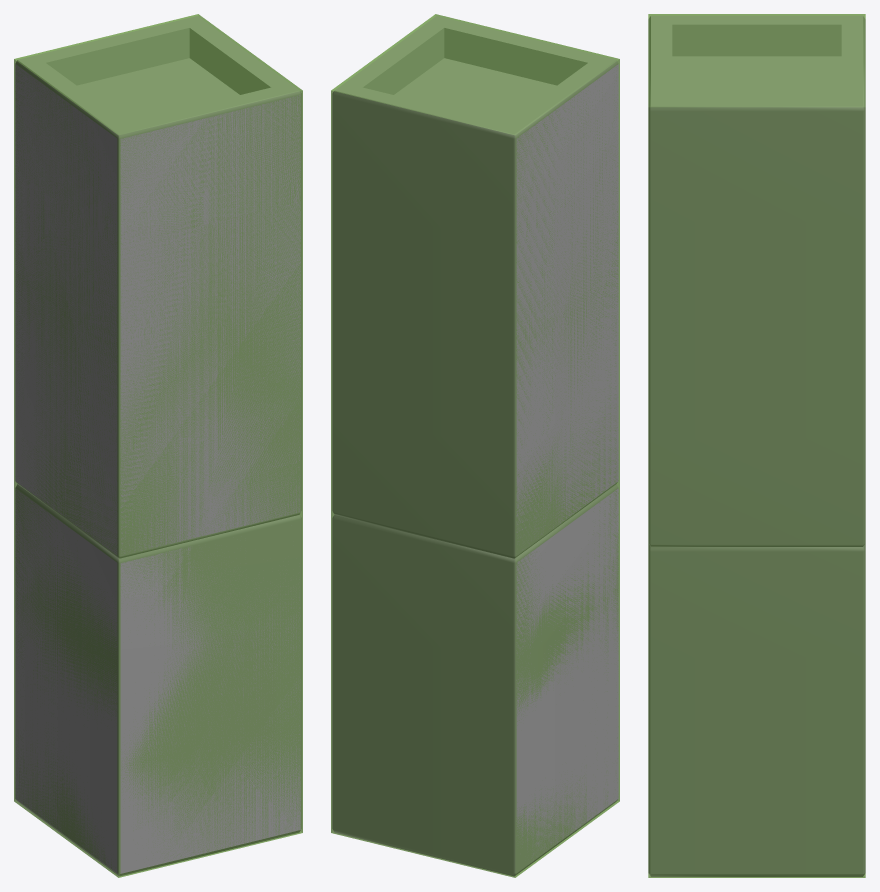
The model's file is M_md_StallWallPillar_01.fbx.
3 renders of one model, left to right at view 1: azimuth 30°, elevation 25°; view 2: azimuth 150°, elevation 25°; view 3: azimuth 270°, elevation 25°, orthographic. The views are drawn at different scales.
Visible parts, largest first — view 1: M_md_StallWallPillar_01_LOD0, M_md_StallWallPillar_01_col_01; view 2: M_md_StallWallPillar_01_LOD0, M_md_StallWallPillar_01_col_01; view 3: M_md_StallWallPillar_01_col_01, M_md_StallWallPillar_01_LOD0.
Boxes of the visible parts, left/top/right/bottom form: M_md_StallWallPillar_01_LOD0: left=15, top=16, right=301, bottom=876; M_md_StallWallPillar_01_col_01: left=14, top=14, right=302, bottom=877; M_md_StallWallPillar_01_LOD0: left=332, top=16, right=618, bottom=876; M_md_StallWallPillar_01_col_01: left=331, top=14, right=619, bottom=877; M_md_StallWallPillar_01_col_01: left=648, top=14, right=865, bottom=877; M_md_StallWallPillar_01_LOD0: left=648, top=15, right=865, bottom=876.
Size of what is drawn, in the model's own units: 90.93 by 350 by 89.35.
